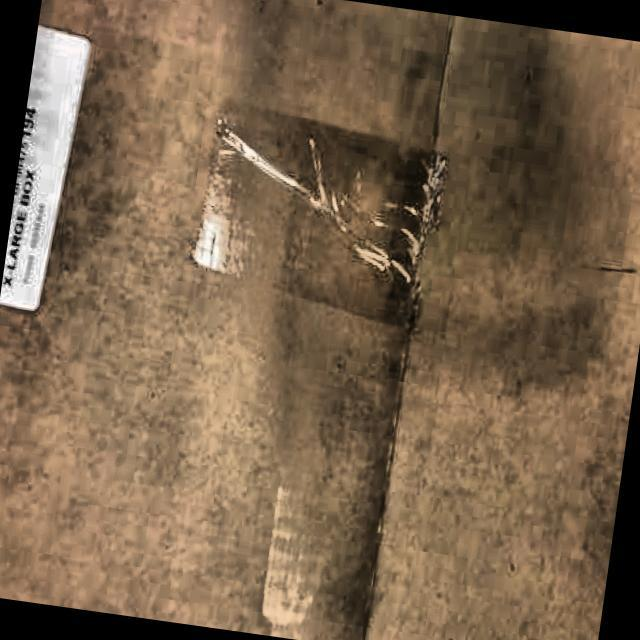cardboard: (0, 16, 94, 315)
